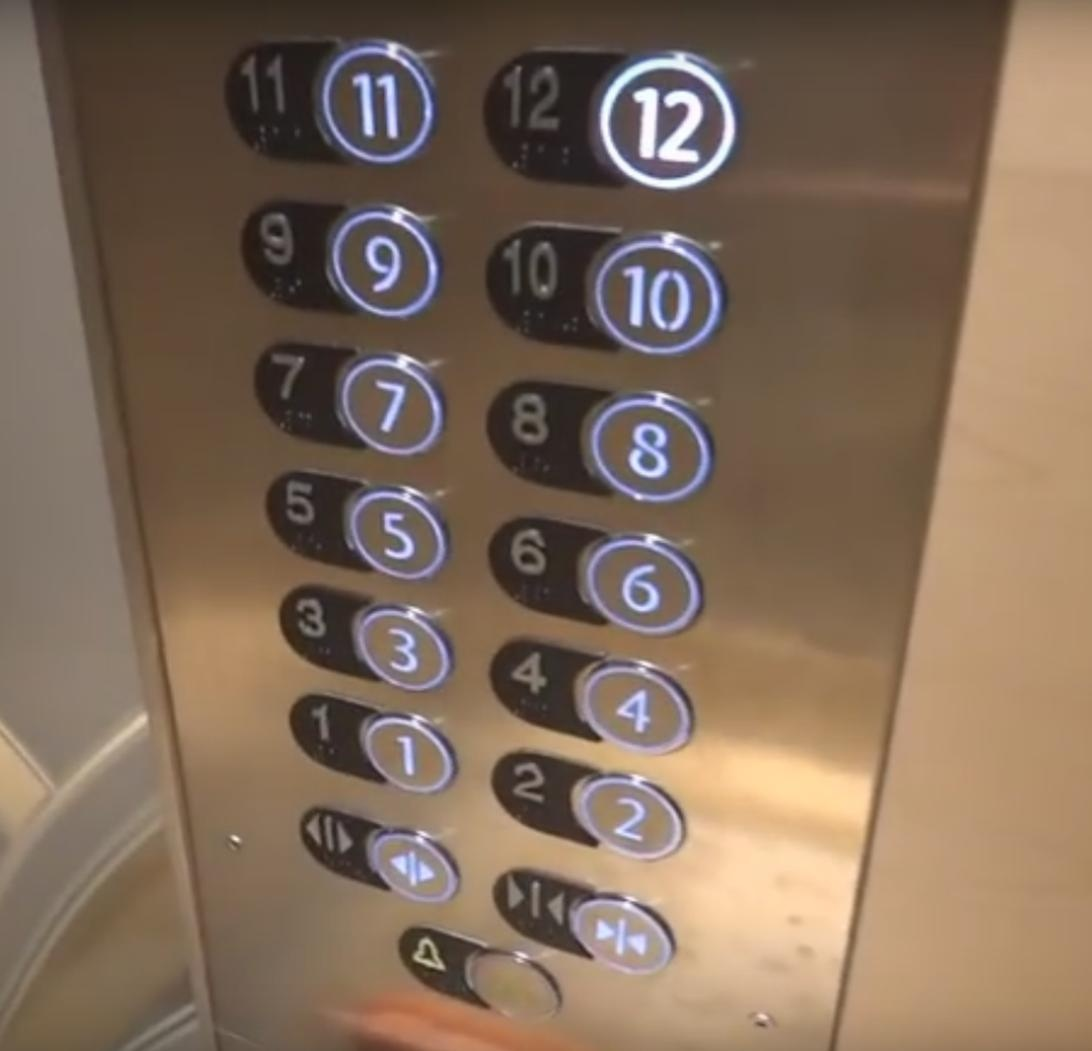1: (284, 683, 379, 789), (358, 711, 456, 793)
10: (581, 229, 725, 357), (494, 222, 572, 345)
11: (306, 37, 435, 163), (221, 37, 333, 164)
12: (595, 50, 738, 192), (478, 48, 604, 193)
2: (485, 742, 594, 850), (571, 770, 684, 862)
3: (277, 579, 372, 683), (347, 604, 452, 691)
4: (483, 631, 596, 741), (573, 659, 695, 754)
5: (259, 463, 358, 579), (341, 483, 449, 581)
6: (576, 533, 704, 637), (486, 508, 594, 627)
7: (334, 350, 448, 459), (255, 341, 356, 459)
8: (581, 388, 713, 500), (483, 373, 595, 501)
9: (322, 199, 442, 321), (232, 196, 345, 318)
alarm: (394, 918, 562, 1032)
close: (486, 856, 587, 963), (572, 891, 677, 976)
open: (297, 798, 379, 897), (362, 825, 461, 905)
